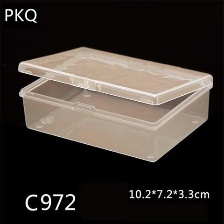plastic_box: (9, 38, 218, 168)
